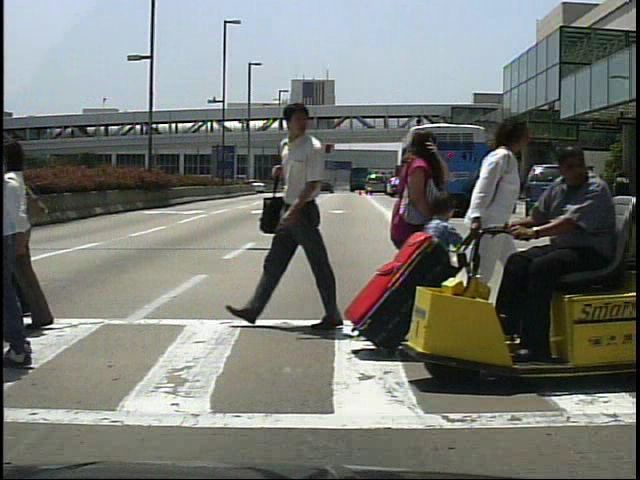person: (506, 144, 627, 372), (245, 101, 341, 327), (465, 103, 542, 346), (381, 124, 447, 355), (11, 133, 75, 327), (419, 187, 463, 319), (582, 162, 602, 218), (499, 166, 517, 219), (495, 164, 514, 213)
